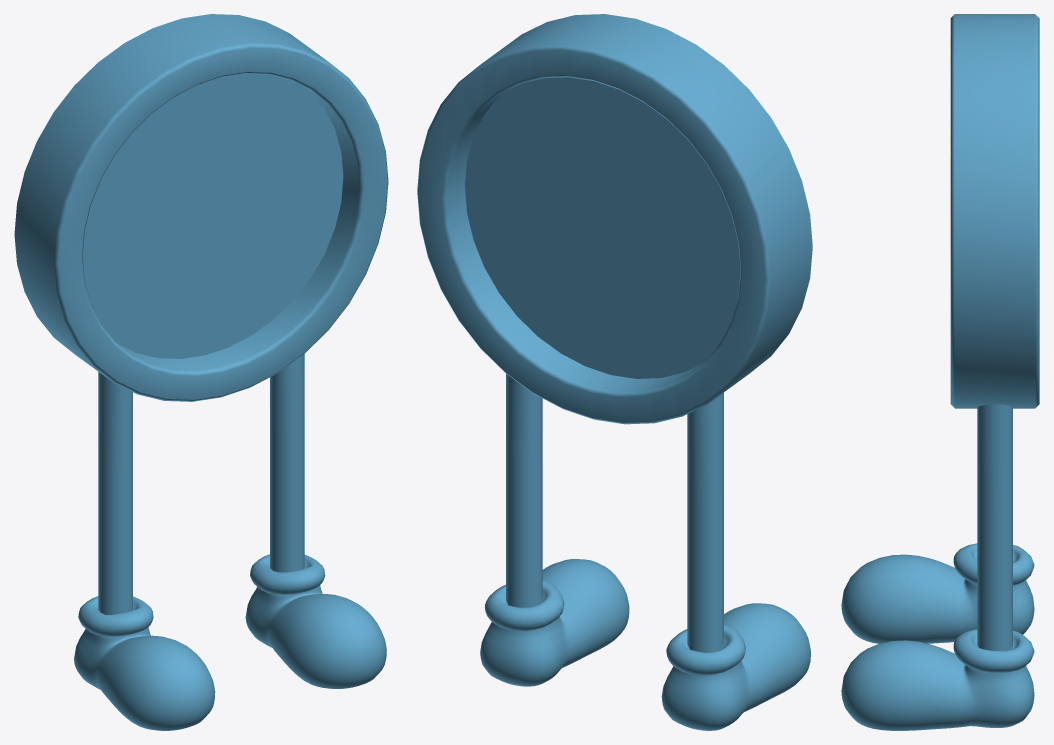
The model's file is Coin.fbx.
3 views of the same model, side by side, from view 1: azimuth 30°, elevation 25°; view 2: azimuth 150°, elevation 25°; view 3: azimuth 270°, elevation 25° (orthographic). The views are drawn at different scales.
Parts seen in each view (by area): view 1: Body_Low, Boot_R_Low, Boot_L_Low, Leg_R_Low, Leg_L_Low; view 2: Body_Low, Boot_L_Low, Boot_R_Low, Leg_R_Low, Leg_L_Low; view 3: Body_Low, Boot_L_Low, Boot_R_Low, Leg_L_Low.
Part boxes in pixels (<box>): Body_Low: <box>14,14,388,401</box>; Boot_R_Low: <box>74,596,215,730</box>; Boot_L_Low: <box>245,554,386,688</box>; Leg_R_Low: <box>98,372,132,614</box>; Leg_L_Low: <box>270,354,304,572</box>; Body_Low: <box>417,14,812,424</box>; Boot_L_Low: <box>480,559,629,686</box>; Boot_R_Low: <box>661,603,810,730</box>; Leg_R_Low: <box>687,392,723,652</box>; Leg_L_Low: <box>506,374,542,607</box>; Body_Low: <box>950,14,1039,408</box>; Boot_L_Low: <box>841,629,1034,730</box>; Boot_R_Low: <box>841,543,1034,643</box>; Leg_L_Low: <box>977,404,1012,650</box>.
Size of the model in its own units: 11.89 by 21.32 by 5.95.
